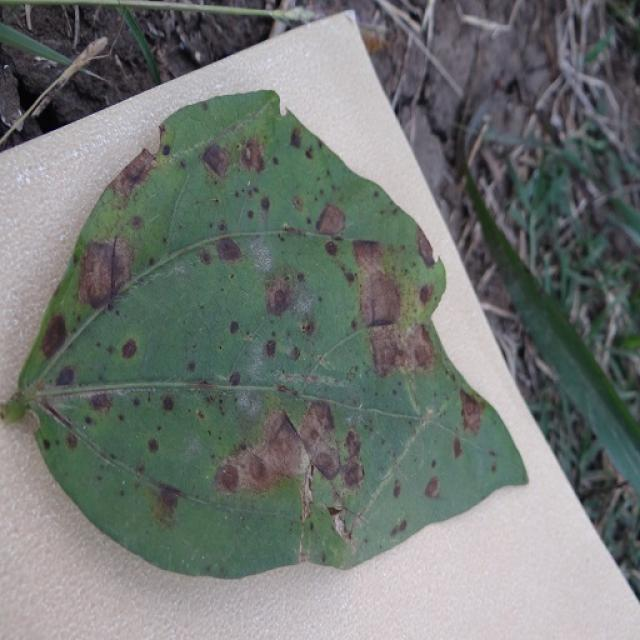Anthracnose: (214, 389, 371, 499), (216, 432, 297, 496), (369, 317, 437, 380), (78, 238, 135, 310), (202, 135, 267, 184), (254, 266, 304, 321), (107, 148, 157, 203), (361, 270, 403, 328), (39, 312, 69, 363), (459, 386, 487, 434), (302, 398, 336, 437), (315, 202, 347, 238), (415, 224, 437, 269), (201, 142, 229, 177), (156, 484, 181, 522), (250, 237, 274, 270), (234, 390, 261, 419), (216, 462, 241, 493), (215, 236, 243, 263), (54, 363, 76, 387), (89, 392, 112, 413), (121, 338, 138, 360), (419, 283, 435, 306), (289, 127, 303, 149), (197, 247, 213, 266), (452, 436, 464, 460), (161, 395, 175, 412), (65, 432, 78, 450), (265, 339, 277, 358), (129, 215, 144, 230), (324, 240, 338, 256), (147, 438, 160, 454), (228, 371, 241, 387), (292, 195, 304, 212), (290, 345, 301, 362), (260, 195, 271, 212), (228, 320, 240, 335), (344, 271, 356, 284), (186, 360, 197, 373), (161, 144, 171, 156), (490, 460, 498, 474), (305, 147, 314, 159), (42, 438, 51, 450), (196, 409, 205, 420), (296, 272, 305, 282), (246, 209, 254, 219)
Blackgram: (14, 92, 526, 575)
